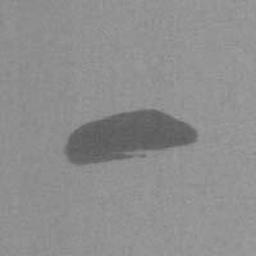Oil spot: (64, 109, 197, 165)
